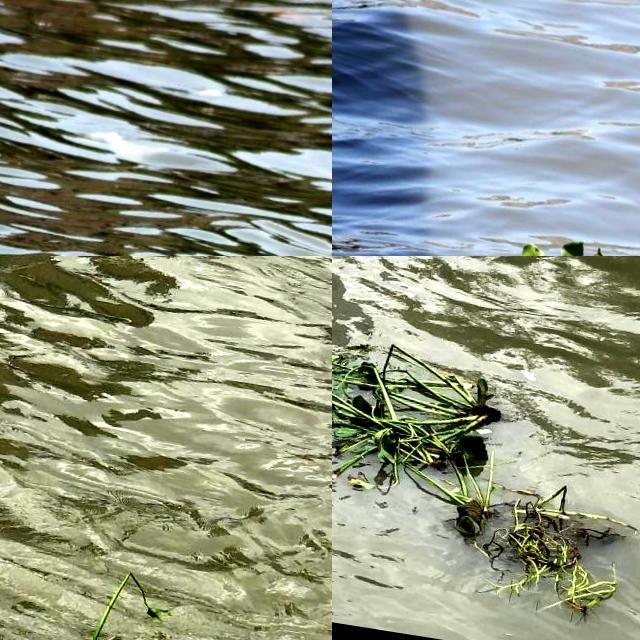water-hyacinth: (333, 321, 640, 630), (72, 571, 298, 640)
